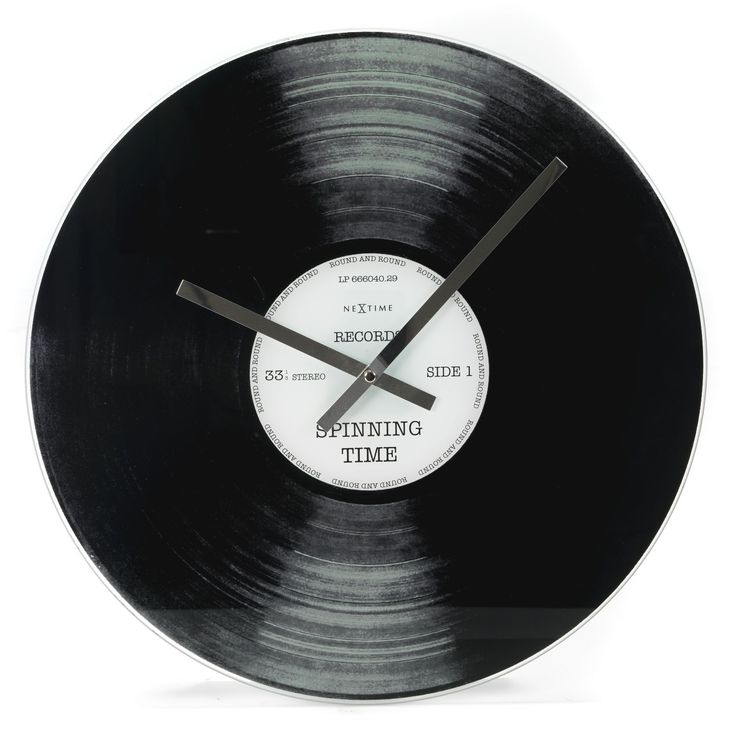clock: (34, 32, 704, 702)
